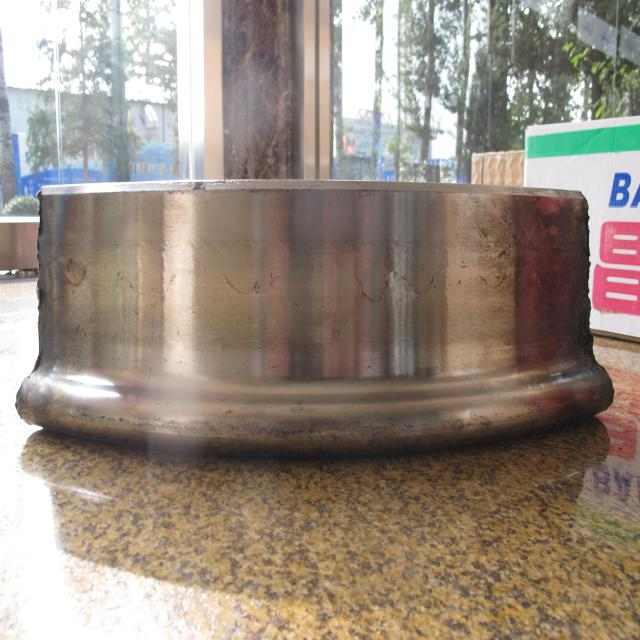Contact_Fatigue_Cracks: (356, 272, 438, 304), (103, 274, 175, 297), (532, 260, 573, 293), (223, 272, 278, 296), (482, 270, 513, 291)
